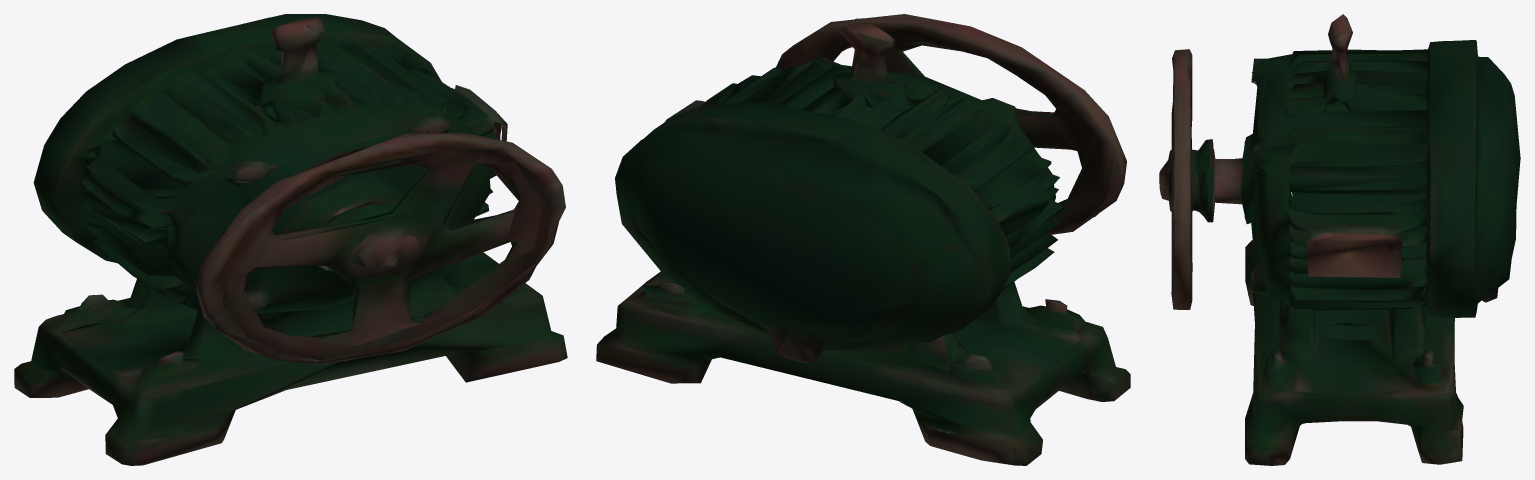
The model's file is motor_cerrado.movil.glb.
3 views of the same model, side by side, from view 1: azimuth 30°, elevation 25°; view 2: azimuth 150°, elevation 25°; view 3: azimuth 270°, elevation 25° (orthographic). The views are drawn at different scales.
Visible parts, largest first — view 1: geometry_0; view 2: geometry_0; view 3: geometry_0.
Part boxes in pixels (x1,y1,x2,y2): geometry_0: (14, 14, 567, 465); geometry_0: (596, 14, 1130, 465); geometry_0: (1159, 14, 1520, 465).
Bounding box in the file's own units: 0.5478 × 0.4163 × 0.3996.
1 material, 1 textured.
